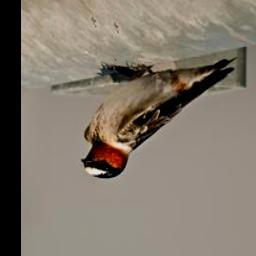Swallow: (79, 58, 239, 182)
